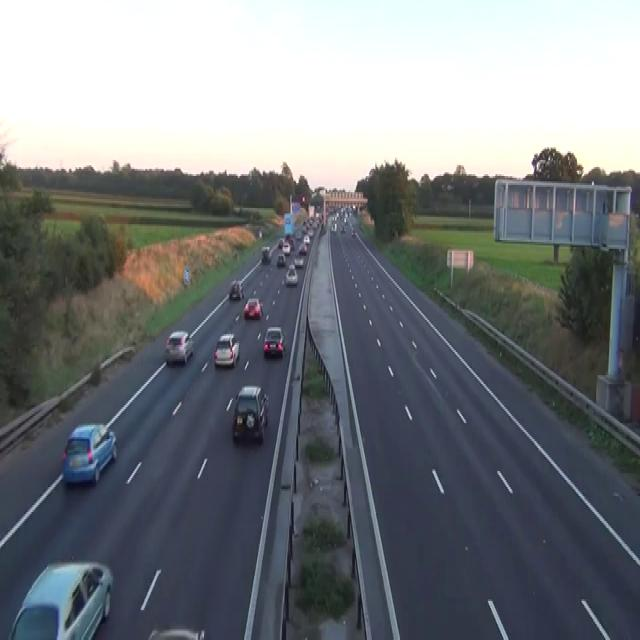Car: (8, 560, 113, 638), (61, 422, 117, 486), (231, 384, 268, 443), (165, 330, 193, 364), (213, 332, 239, 368), (263, 326, 284, 358), (148, 626, 204, 638), (243, 297, 263, 318), (228, 279, 244, 301), (285, 263, 298, 286), (260, 246, 271, 262), (285, 234, 294, 250), (276, 252, 285, 266), (293, 256, 303, 267), (298, 242, 307, 254), (282, 242, 290, 254), (277, 236, 284, 249), (320, 222, 326, 235), (446, 182, 454, 190), (303, 234, 310, 243), (233, 204, 240, 213), (295, 230, 302, 238), (340, 224, 346, 233), (330, 222, 336, 231), (308, 228, 314, 236), (258, 228, 262, 238), (351, 226, 355, 234), (301, 195, 305, 202)
Truck: (283, 212, 294, 234)
